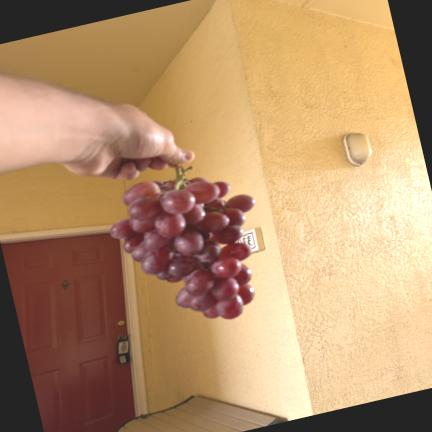grape_cluster: (111, 168, 255, 319)
